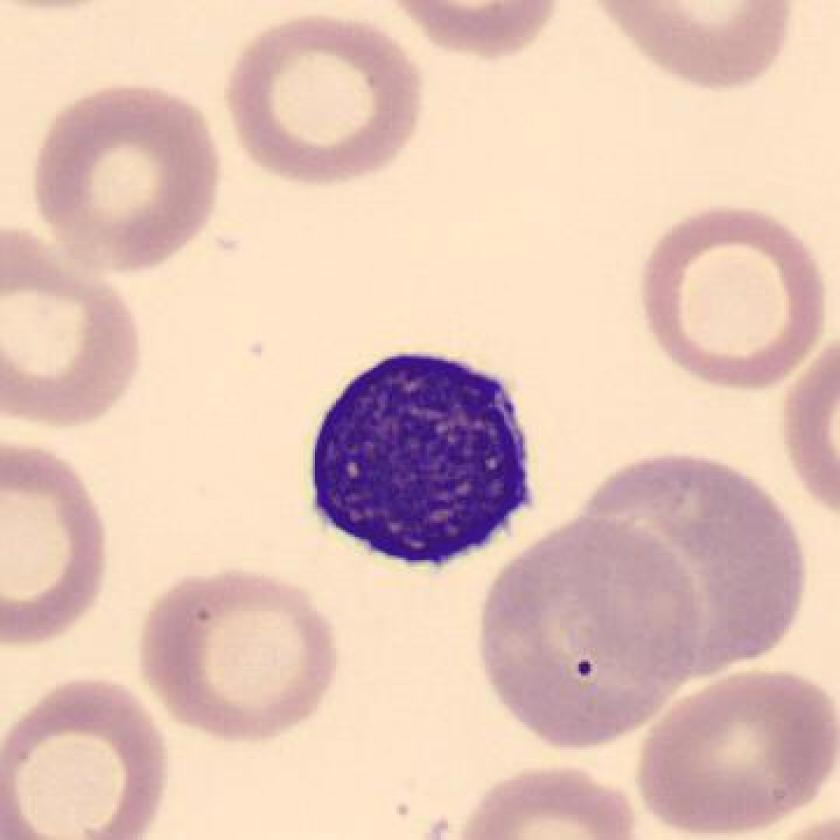lymphocyte: (297, 339, 547, 591)
